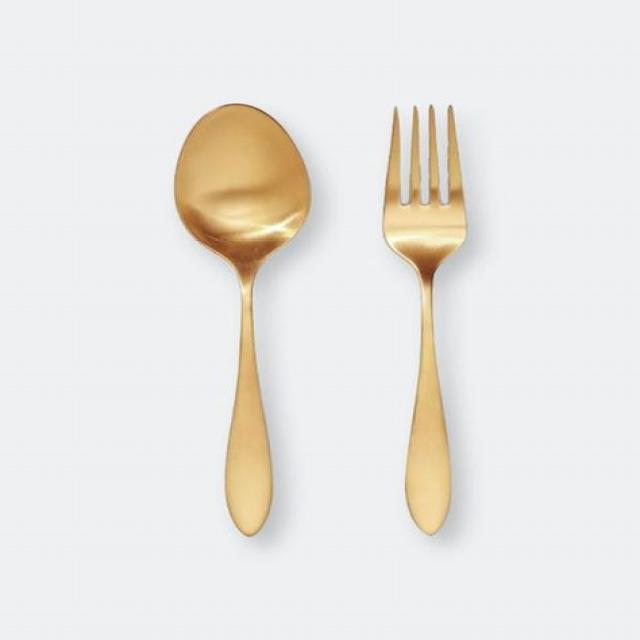fork: (378, 98, 506, 544)
spoon: (165, 95, 328, 548)
